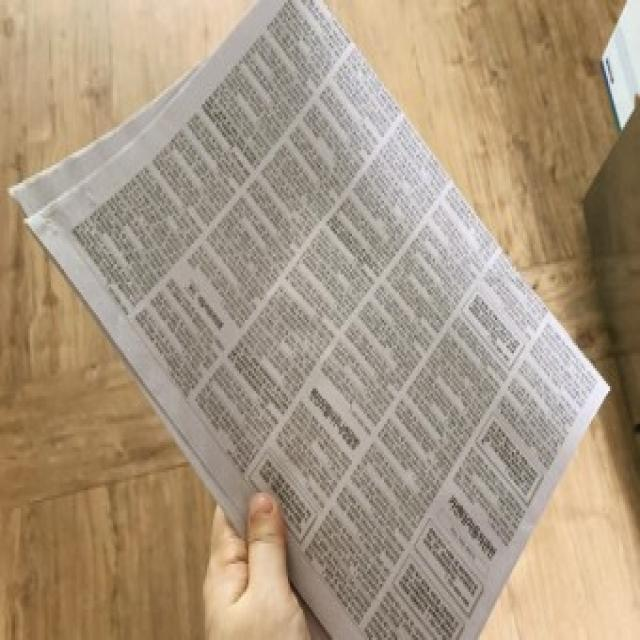Newspaper: (9, 0, 614, 640)
